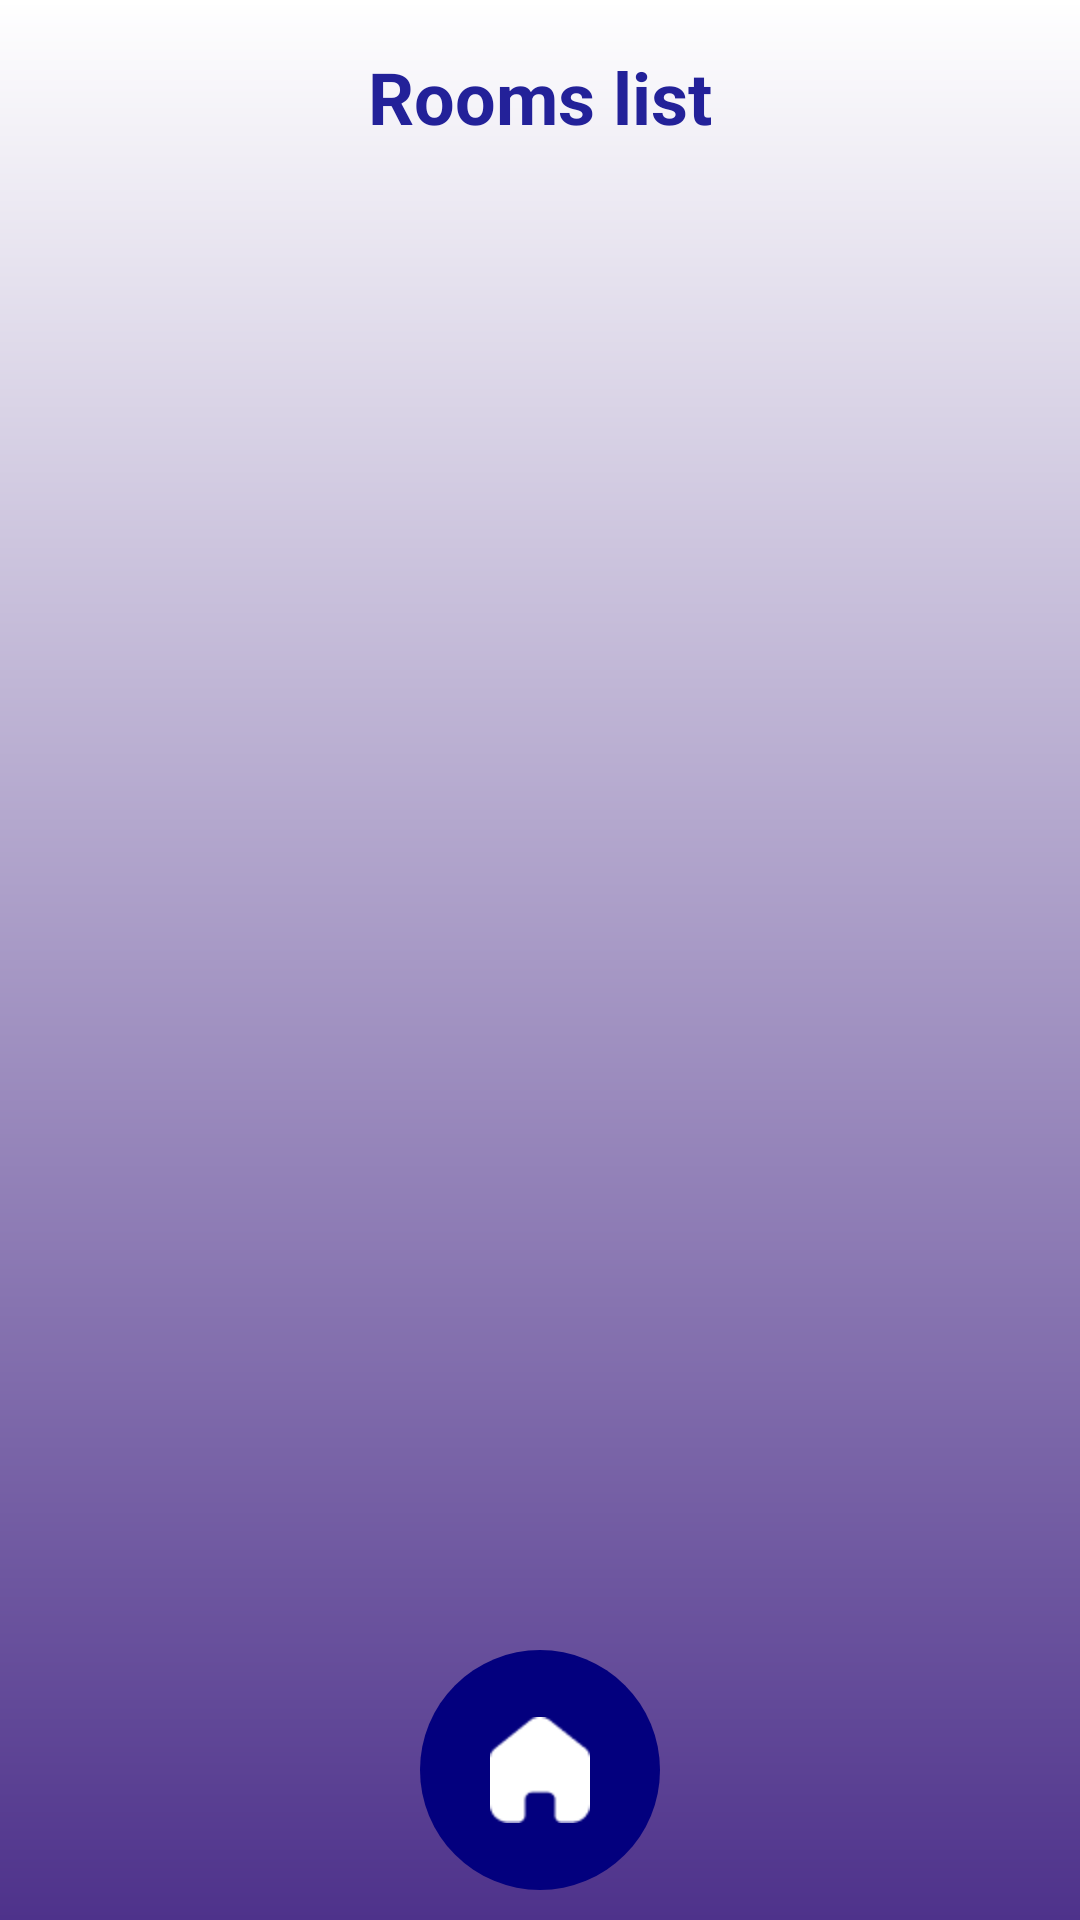

Icons on this 1080*1920 Android screen, each with its box as (x1, y1, x2, y2):
casuta: (420, 1650, 660, 1890)
